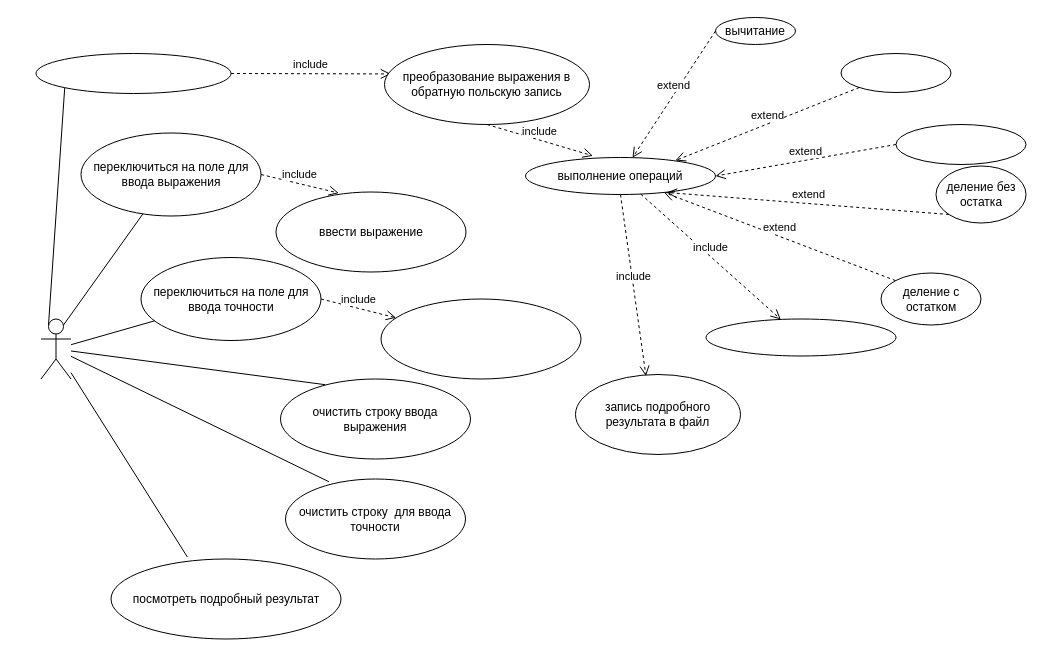
Some shapes in this 1044 by 657 pixel diagram are drawn without their labels. The shapes that lost their labels are listed below. From the top down, each one's centre as x and y in pixels, then its label:
point 133,73: отправить данные на обработку
point 895,72: сложение
point 960,144: умножение
point 55,348: Пользователь
point 480,338: ввести точность
point 800,337: вывод результата на экран
